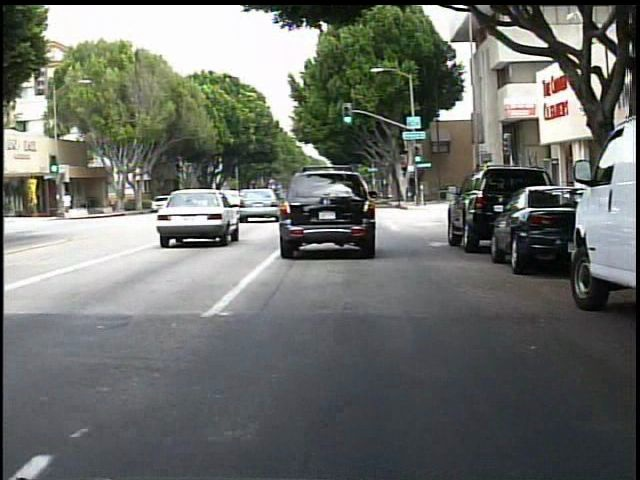person: (67, 191, 77, 217)
